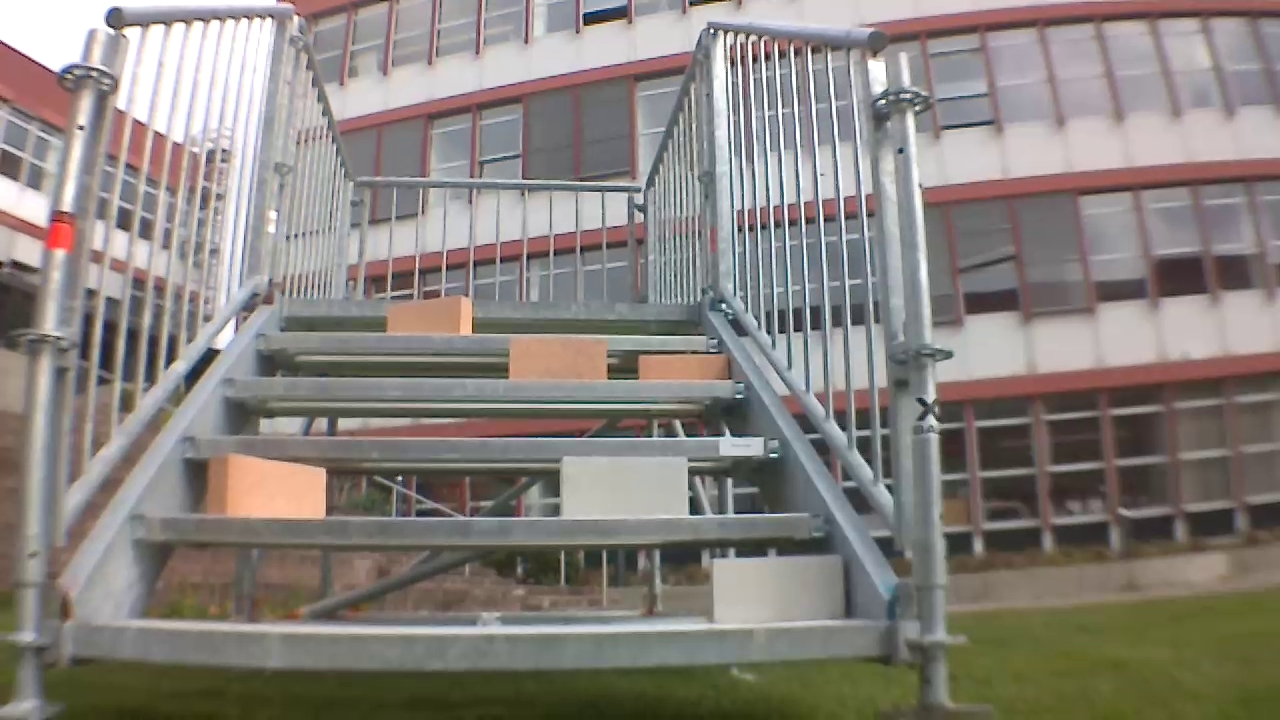brick: (713, 555, 845, 624), (208, 453, 326, 518), (558, 457, 687, 516), (510, 338, 606, 379), (384, 296, 472, 335), (639, 355, 728, 379)
edge: (73, 621, 890, 669), (133, 513, 826, 541), (181, 435, 781, 461), (220, 376, 746, 401), (284, 299, 700, 320), (258, 332, 717, 351)
stairs: (4, 2, 970, 712)
steps: (65, 293, 896, 677)
